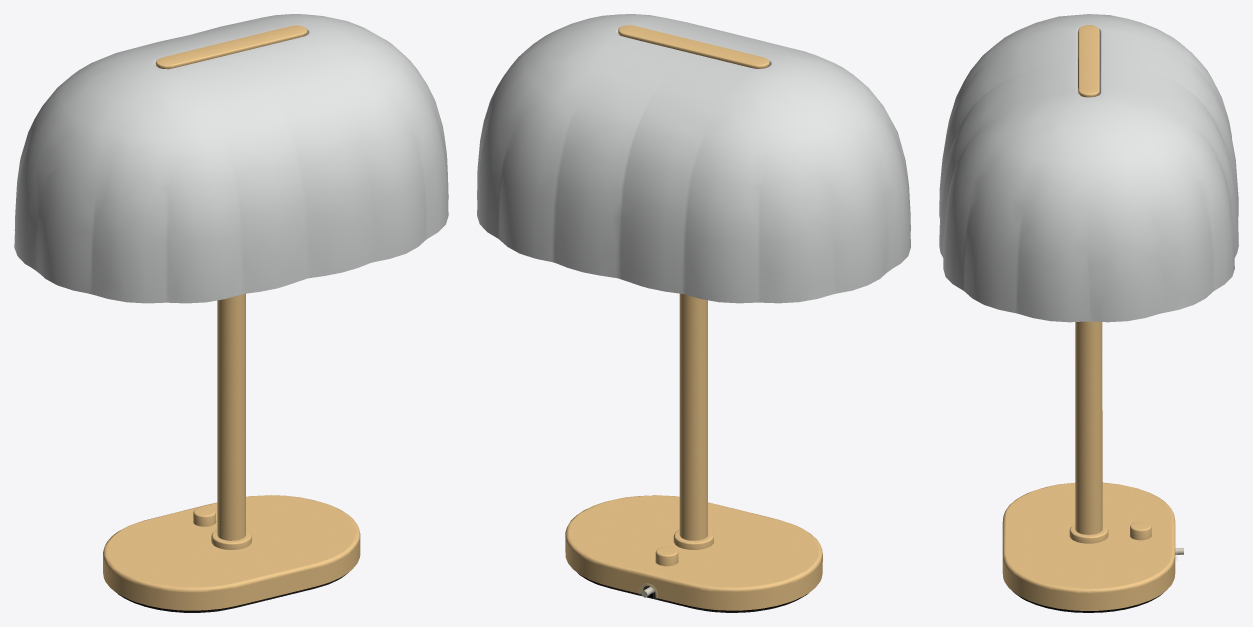
File: akterspring_lampa_stoowa_00586548.glb
The picture shows the model from 3 angles, left to right: view 1: azimuth 30°, elevation 25°; view 2: azimuth 150°, elevation 25°; view 3: azimuth 270°, elevation 25°; orthographic projection. The views are drawn at different scales.
Visible parts, largest first — view 1: akterspring_lampa_stoowa_00586548; view 2: akterspring_lampa_stoowa_00586548; view 3: akterspring_lampa_stoowa_00586548.
Part boxes in pixels (<box>): akterspring_lampa_stoowa_00586548: <box>14,14,448,612</box>; akterspring_lampa_stoowa_00586548: <box>477,14,910,612</box>; akterspring_lampa_stoowa_00586548: <box>939,14,1238,612</box>.
Size of the model in its own units: 0.3028 by 0.3841 by 0.2083.
Materials: 3 (3 with a texture image).
